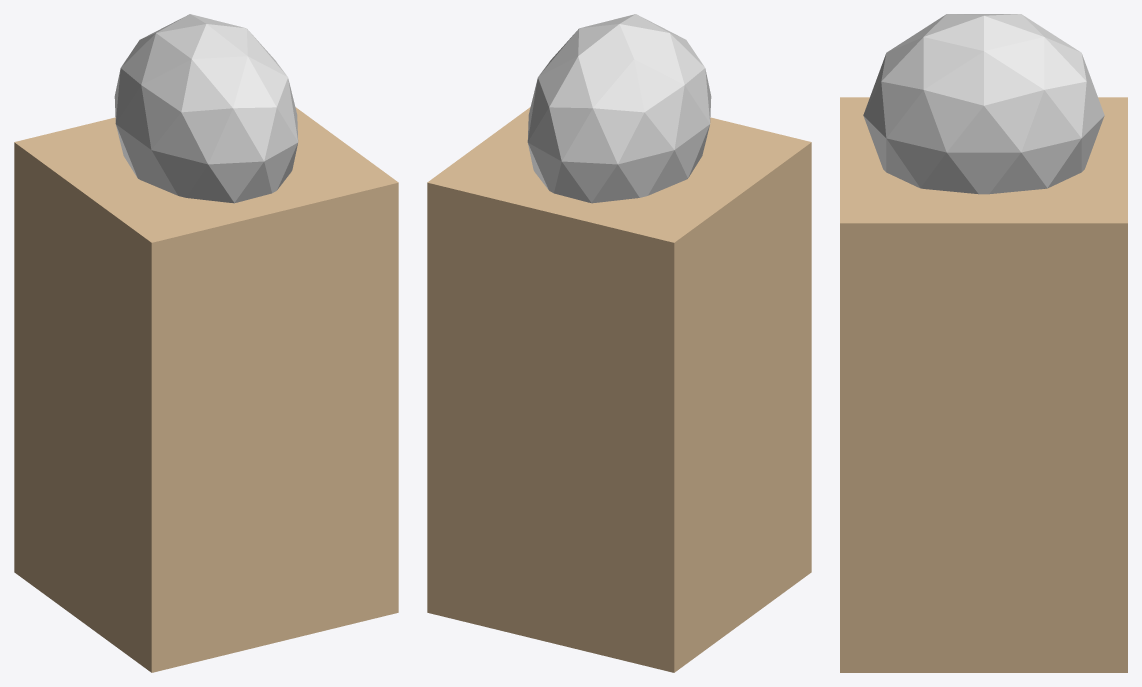
Rendered from player.glb.
The picture shows the model from 3 angles, left to right: view 1: azimuth 30°, elevation 25°; view 2: azimuth 150°, elevation 25°; view 3: azimuth 270°, elevation 25°; orthographic projection. The views are drawn at different scales.
Visible parts, largest first — view 1: player, head; view 2: player, head; view 3: player, head.
Part boxes in pixels (bbox=[...]): player: bbox=[14, 107, 398, 672]; head: bbox=[114, 14, 298, 203]; player: bbox=[427, 107, 811, 672]; head: bbox=[527, 14, 711, 203]; player: bbox=[840, 97, 1127, 672]; head: bbox=[863, 14, 1104, 194].
Size of what is drawn, in the model's own units: 0.4911 by 1.08 by 0.4739.
